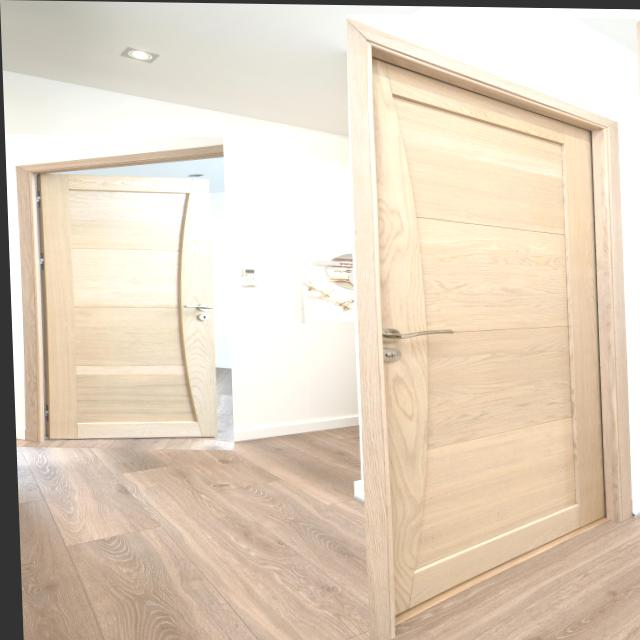close: (346, 13, 639, 639)
semi-open: (4, 134, 232, 451)
